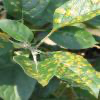Apple rust leaf: (38, 47, 100, 99), (11, 52, 61, 88), (48, 0, 99, 31), (2, 0, 51, 25)
